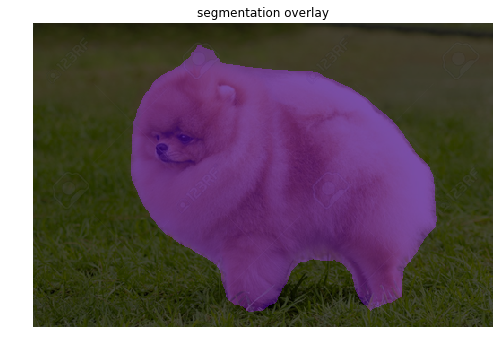unlabelled: (36, 29, 490, 322)
